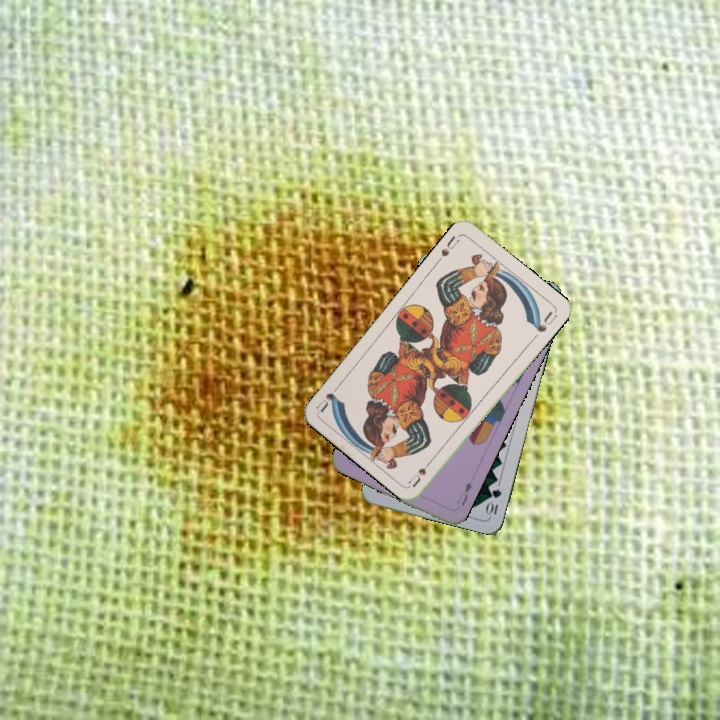EU: (454, 478, 475, 508)
G10: (483, 485, 504, 519)
SU: (405, 453, 437, 489), (437, 231, 463, 259)
